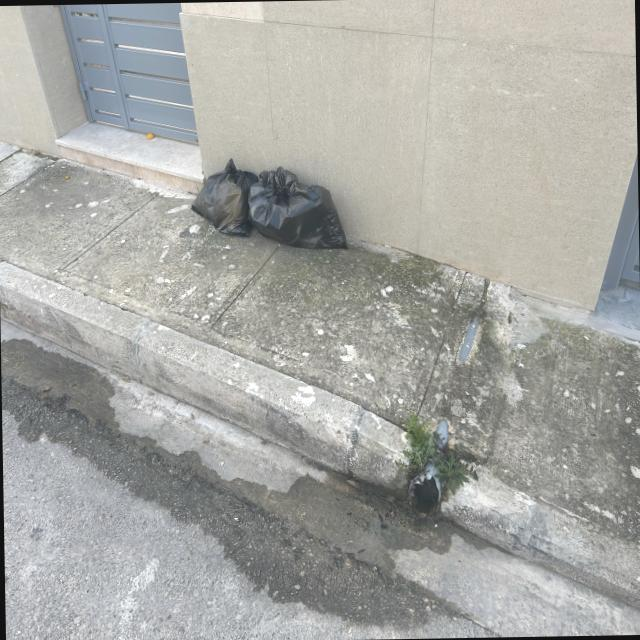black_bag: (248, 162, 352, 255), (188, 156, 260, 237)
